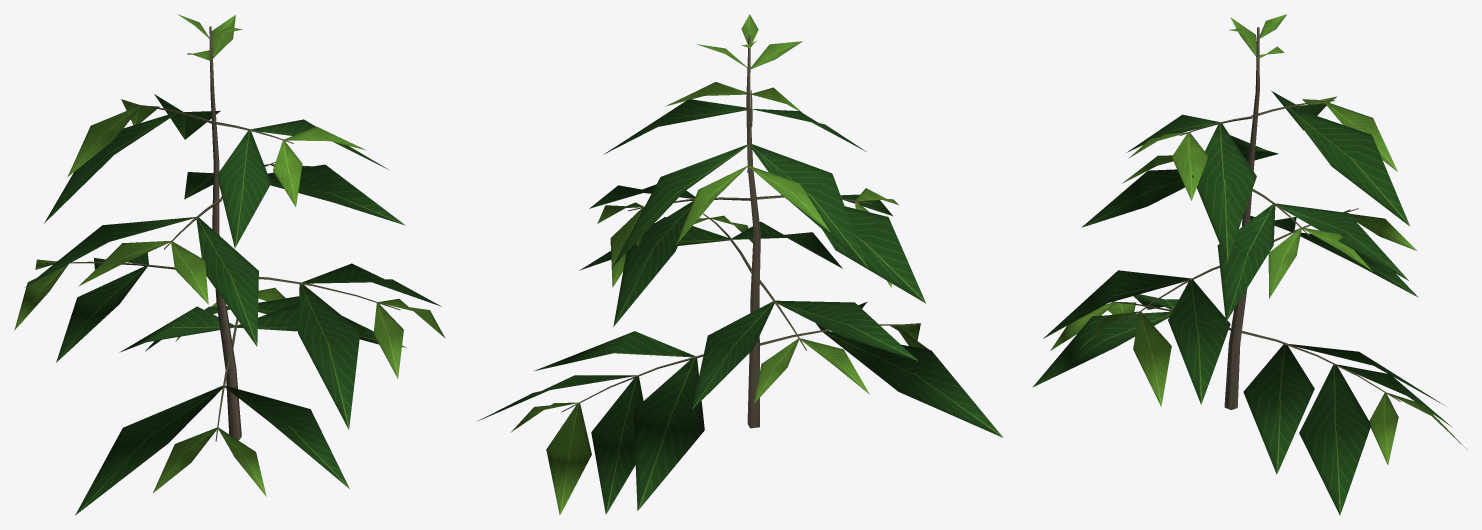
File: coffea-robusta-young-lod1.glb
3 views of the same model, side by side, from view 1: azimuth 30°, elevation 25°; view 2: azimuth 150°, elevation 25°; view 3: azimuth 270°, elevation 25° (orthographic). The views are drawn at different scales.
Parts seen in each view (by area): view 1: coffee_leaves, coffee_bark; view 2: coffee_leaves, coffee_bark; view 3: coffee_leaves, coffee_bark.
Part boxes in pixels (bbox=[...]): coffee_leaves: bbox=[14, 14, 445, 515]; coffee_bark: bbox=[45, 26, 400, 441]; coffee_leaves: bbox=[477, 14, 1003, 515]; coffee_bark: bbox=[561, 35, 916, 428]; coffee_leaves: bbox=[1032, 14, 1466, 515]; coffee_bark: bbox=[1111, 27, 1400, 409].
Size of the model in its own units: 1.05 by 0.9922 by 0.9966.
Materials: 2 (2 with a texture image).
